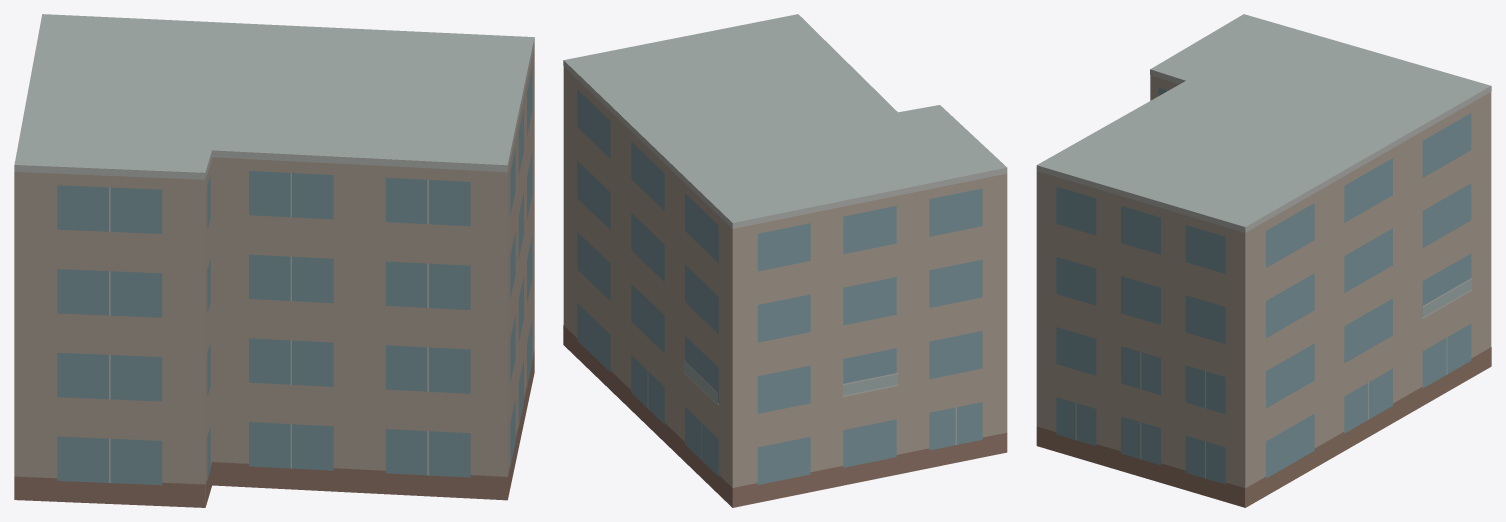
Rendered from survey-upis-32970893.glb.
3 renders of one model, left to right at view 1: azimuth 30°, elevation 25°; view 2: azimuth 150°, elevation 25°; view 3: azimuth 270°, elevation 25°, orthographic. The views are drawn at different scales.
Parts seen in each view (by area): view 1: survey-upis-32970893.tmp; view 2: survey-upis-32970893.tmp; view 3: survey-upis-32970893.tmp.
Part boxes in pixels (bbox=[...]): survey-upis-32970893.tmp: bbox=[14, 14, 534, 507]; survey-upis-32970893.tmp: bbox=[563, 14, 1007, 507]; survey-upis-32970893.tmp: bbox=[1036, 14, 1491, 507].
Bounding box in the file's own units: 19.22 × 11.8 × 17.33.
